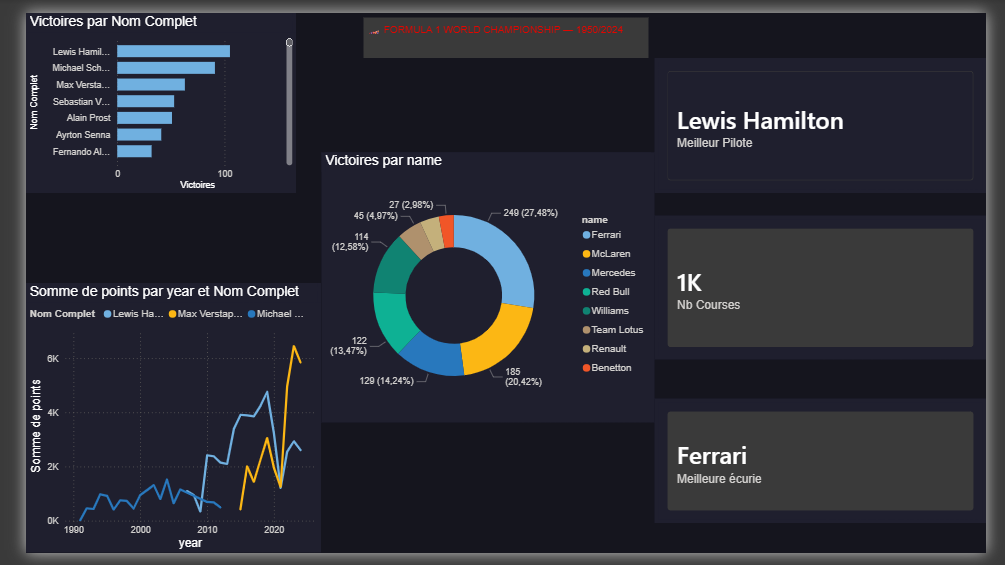

What the dashboard file says about the page in this screenshot:
{"tool":"powerbi","page":{"name":"Page 1","canvas":[1280,720],"ordinal":0},"visuals":[{"type":"clusteredBarChart","fields":{"Category":["drivers.Nom Complet "],"Y":["results.Victoires"]},"box":[0,0,360,240],"z":0},{"type":"lineChart","fields":{"Category":["races.year"],"Y":["Sum(driver_standings.points)"],"Series":["drivers.Nom Complet "]},"box":[0,359.6,393.7,359.6],"z":1000},{"type":"donutChart","fields":{"Category":["constructors.name"],"Y":["results.Victoires"]},"box":[394,186,444,360],"z":2000},{"type":"cardVisual","fields":{"Data":["races.Nb Courses"]},"box":[838,270,442,192],"z":2001},{"type":"cardVisual","fields":{"Data":["results.Meilleur Pilote"]},"box":[837.5,60,442.5,180],"z":2002},{"type":"cardVisual","fields":{"Data":["results.Meilleure écurie"]},"box":[838,514,442,166],"z":2003},{"type":"textbox","box":[450,6,380,54],"z":2004}]}

Visuals, with their boxes in screenshot pixels (x1, y1, x2, y2), scaled from the page's 1280x720 canvas onto the 1005x565 screenshot:
clusteredBarChart - drivers.Nom Complet  x results.Victoires: x1=0, y1=0, x2=283, y2=188
lineChart - races.year x Sum(driver_standings.points): x1=0, y1=282, x2=309, y2=564
donutChart - constructors.name x results.Victoires: x1=309, y1=146, x2=658, y2=428
cardVisual - races.Nb Courses: x1=658, y1=212, x2=1004, y2=363
cardVisual - results.Meilleur Pilote: x1=658, y1=47, x2=1004, y2=188
cardVisual - results.Meilleure écurie: x1=658, y1=403, x2=1004, y2=534
textbox: x1=353, y1=5, x2=652, y2=47
